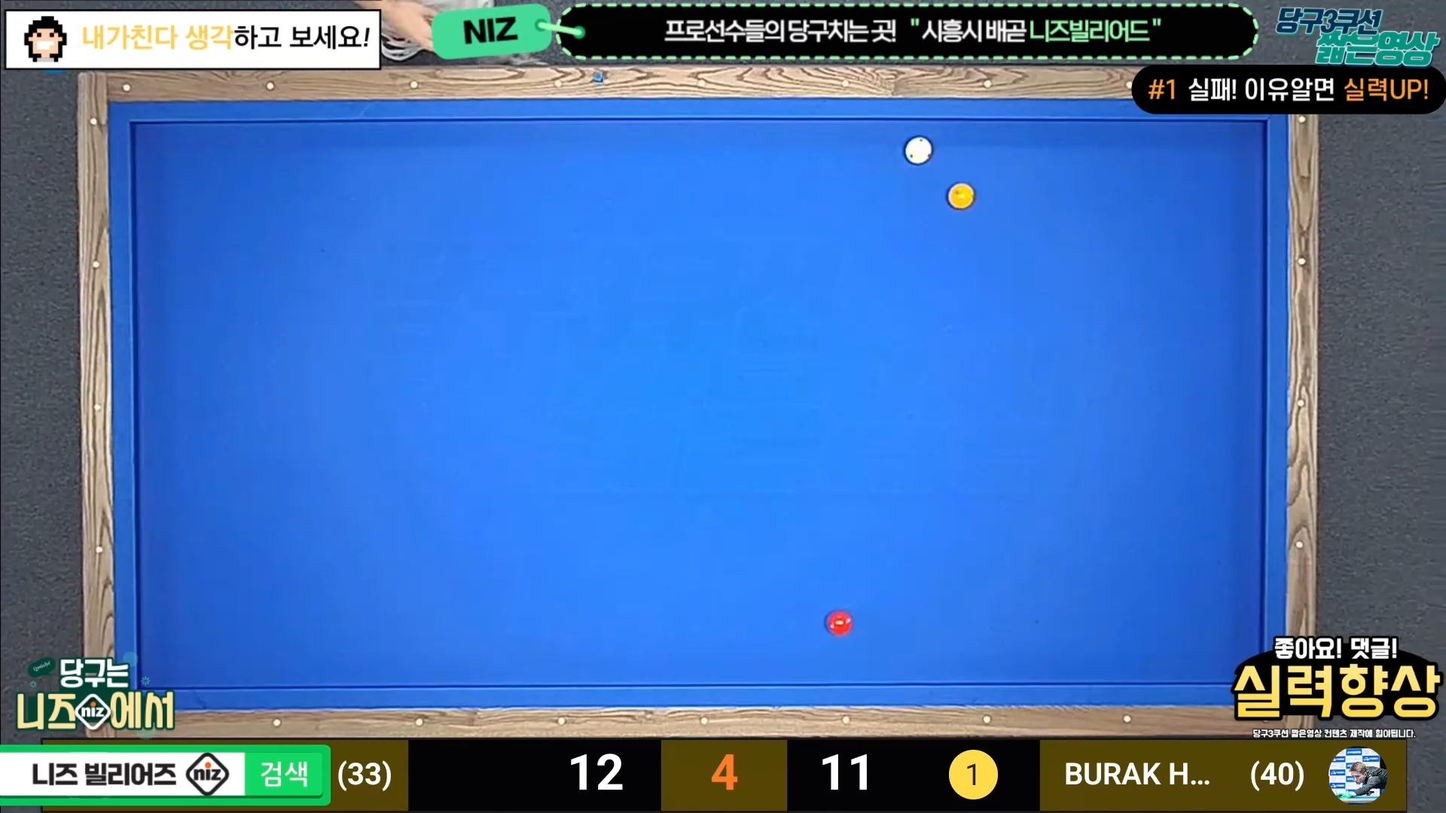Red: (822, 611, 855, 638)
White: (946, 769, 999, 803), (905, 136, 939, 166)
Yellow: (946, 181, 978, 211)
